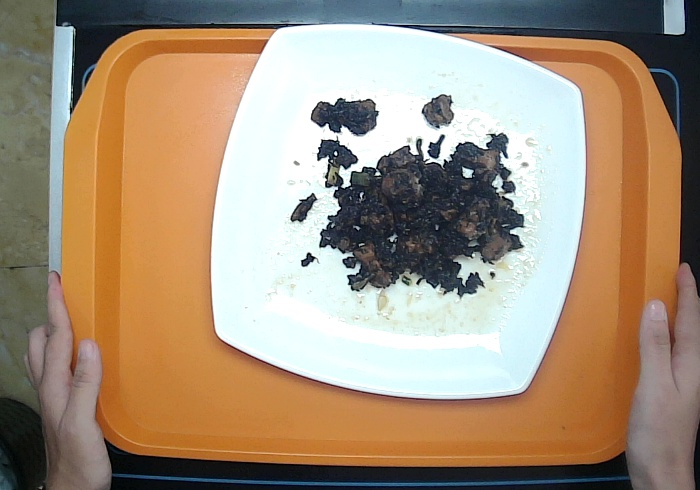ZNLD-Bai_Fang_Pan: (206, 23, 586, 400)
